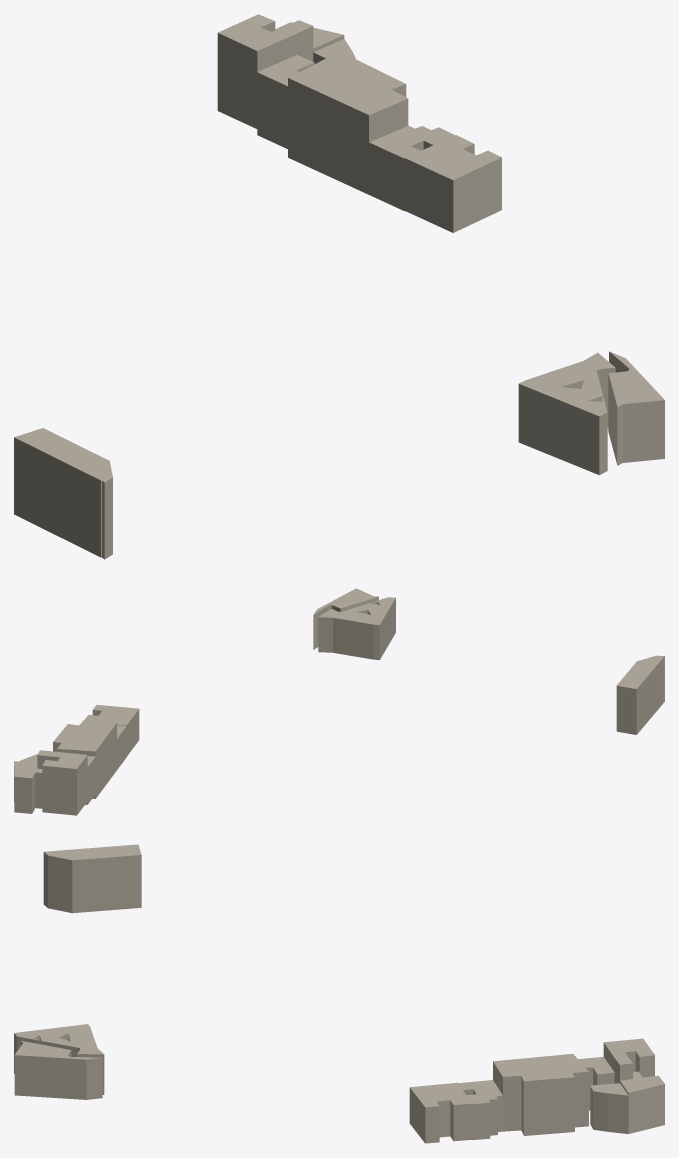
File: senglea_60_27_collision.glb
3 renders of one model, top to bottom at view 1: azimuth 30°, elevation 25°; view 2: azimuth 150°, elevation 25°; view 3: azimuth 270°, elevation 25°, orthographic. The views are drawn at different scales.
Parts seen in each view (by area): view 1: geometry_0; view 2: geometry_0; view 3: geometry_0.
Part boxes in pixels (box(x1,y1,x2,y2)): geometry_0: box(14, 14, 664, 559); geometry_0: box(14, 588, 664, 815); geometry_0: box(14, 844, 664, 1143).
Size of the model in its own units: 142 by 18.86 by 168.
